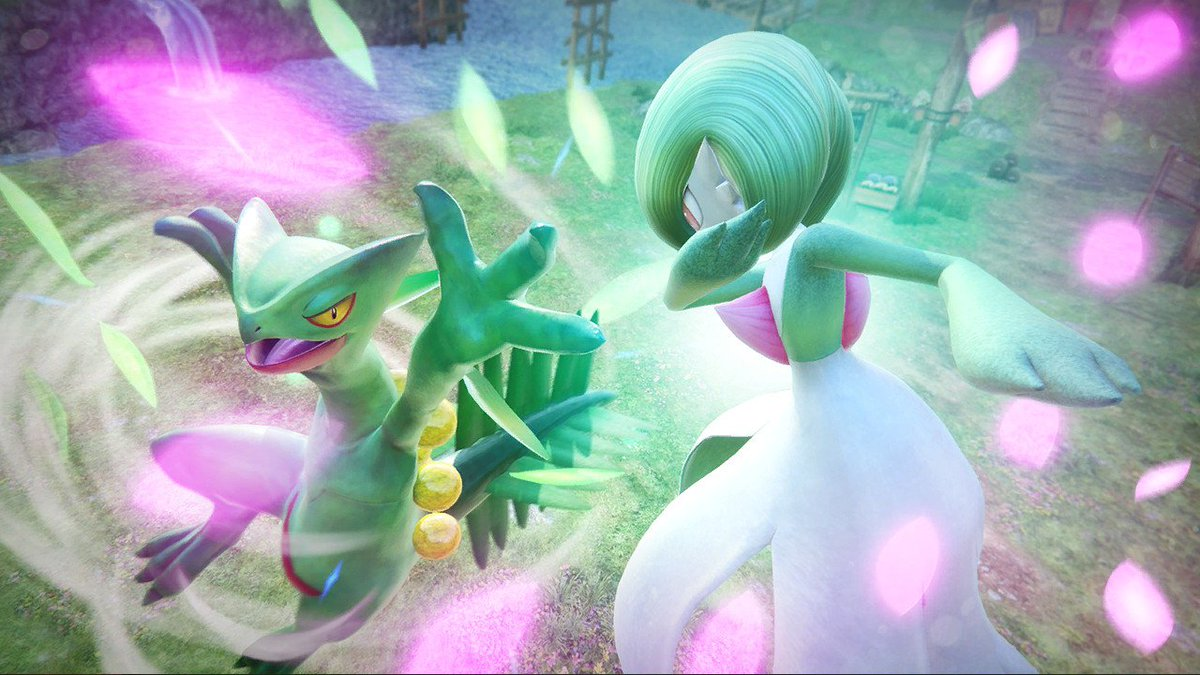gardevoir: (595, 53, 1159, 662)
